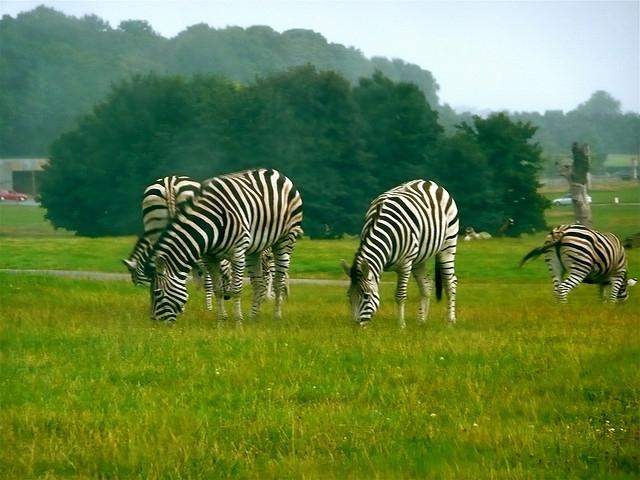car: (552, 192, 594, 207), (0, 189, 28, 202)
